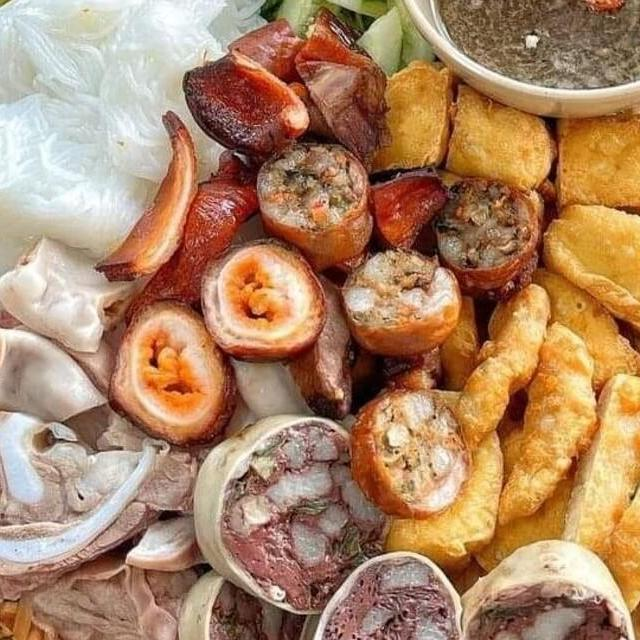bun: (0, 0, 306, 324)
bun dau: (0, 0, 640, 640)
cha com: (485, 322, 605, 520), (456, 274, 563, 446), (563, 372, 640, 588)
dau hu: (356, 34, 567, 210), (535, 192, 640, 337), (548, 103, 640, 226)
doi sun: (178, 398, 407, 628), (280, 531, 483, 640), (438, 531, 640, 640), (325, 230, 483, 352), (353, 378, 484, 522), (245, 132, 385, 262), (432, 162, 550, 292), (177, 546, 320, 640)
